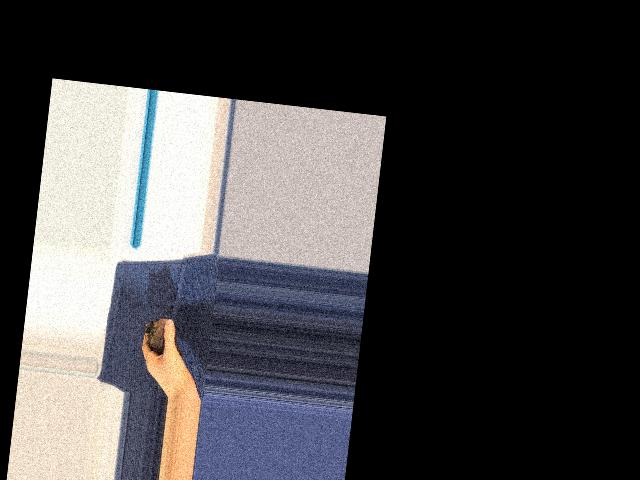beet: (143, 316, 190, 357)
